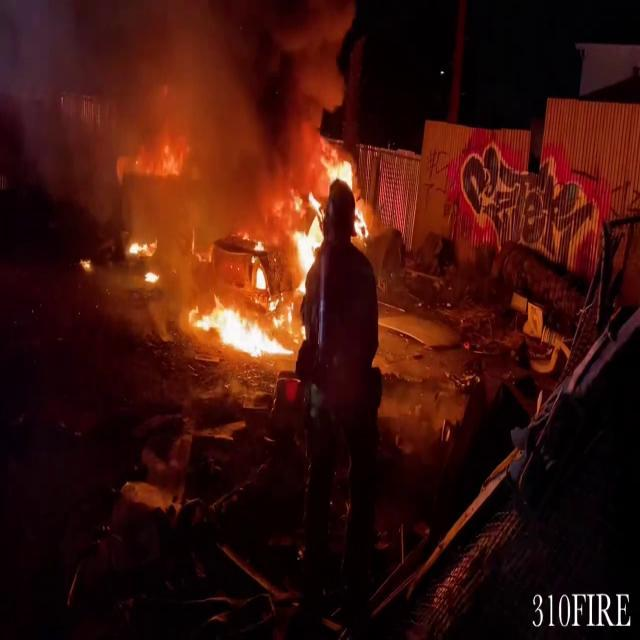Fire: (188, 288, 292, 361), (278, 178, 322, 340), (316, 138, 362, 204)
Smoke: (0, 0, 354, 207)
